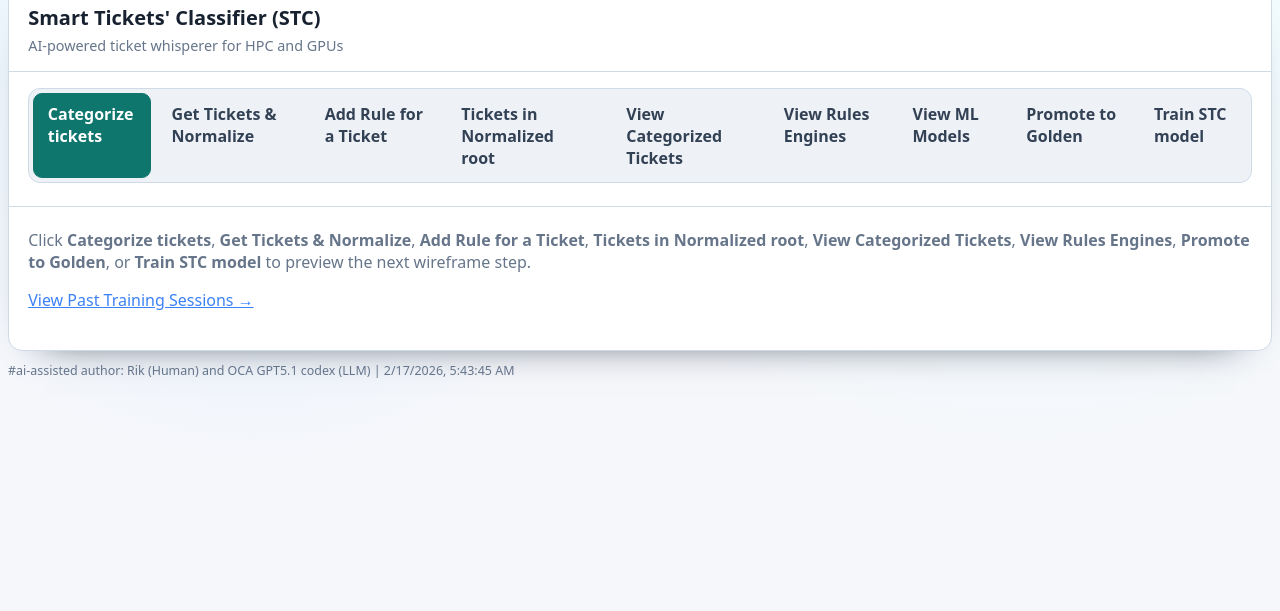
Scenario: STC wireframe flow › enforces either-or input mode
Click the link "Categorize tickets" at (92, 136), box top-left (33, 93), bottom-right (151, 178)
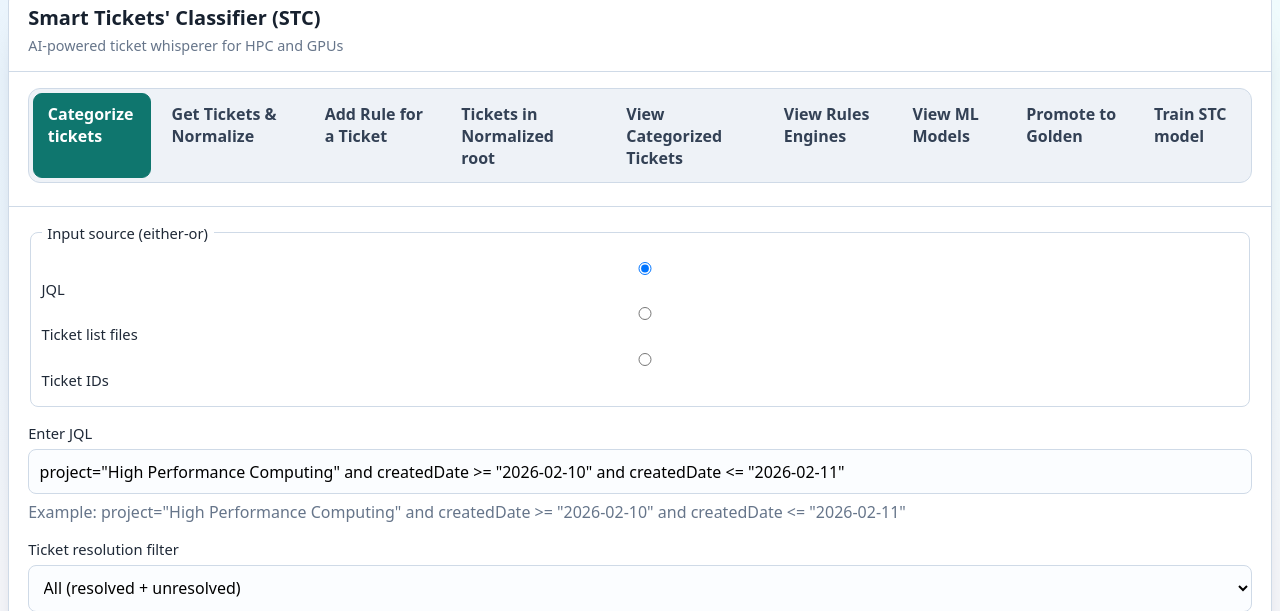
expect the field labelled "Enter JQL" is enabled: met, box top-left (28, 449), bottom-right (1252, 494)
Click the radio button labelled "Ticket list files" at (645, 314), box top-left (47, 307), bottom-right (1243, 320)
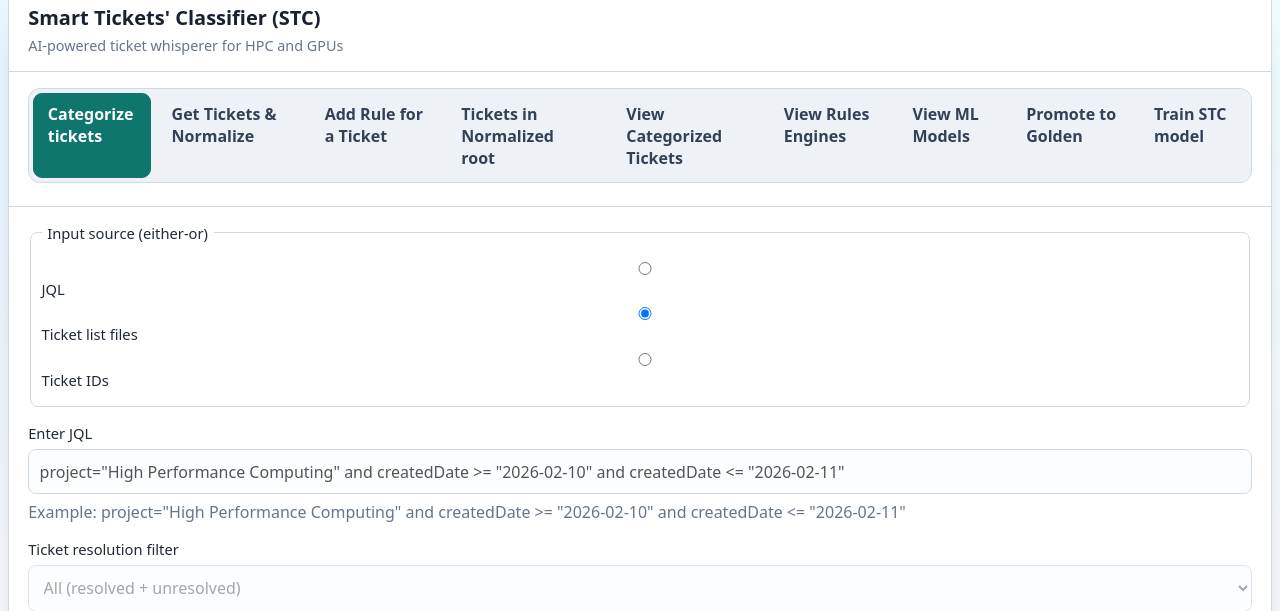
expect the field labelled "Enter JQL" is disabled: met, box top-left (28, 449), bottom-right (1252, 494)
Click the radio button labelled "Ticket IDs" at (645, 360), box top-left (47, 353), bottom-right (1243, 366)
(page scrolled)
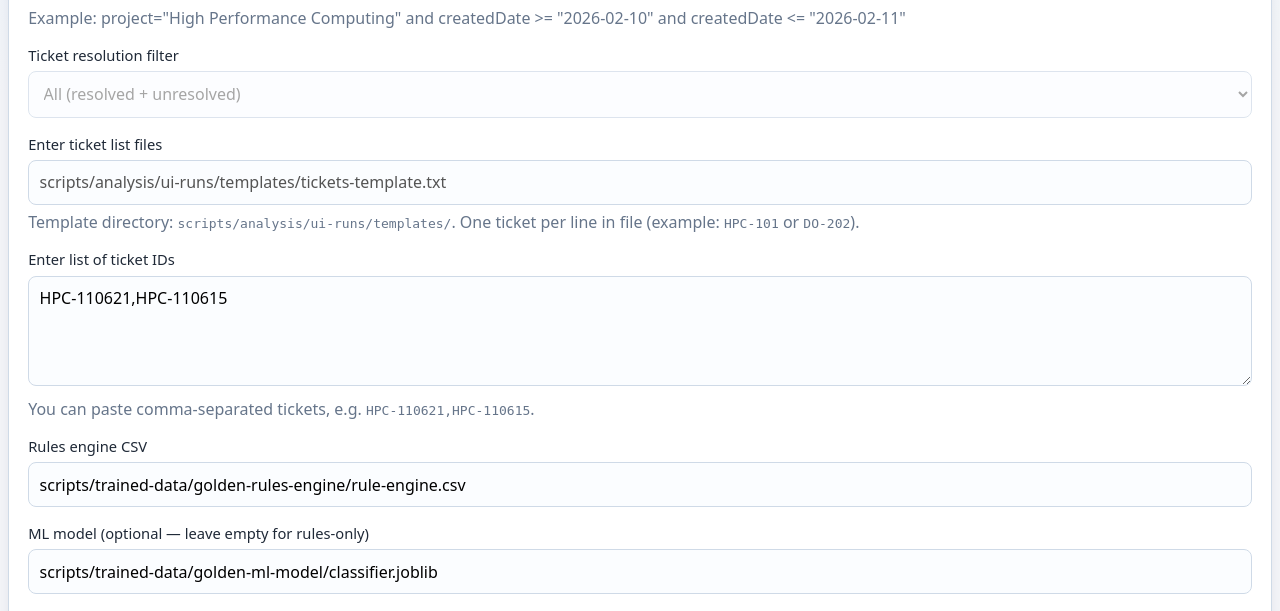
expect the field labelled "Enter ticket list files" is disabled: met, box top-left (28, 160), bottom-right (1252, 205)
expect the text box labelled "Enter list of ticket IDs" is enabled: met, box top-left (28, 276), bottom-right (1252, 386)
